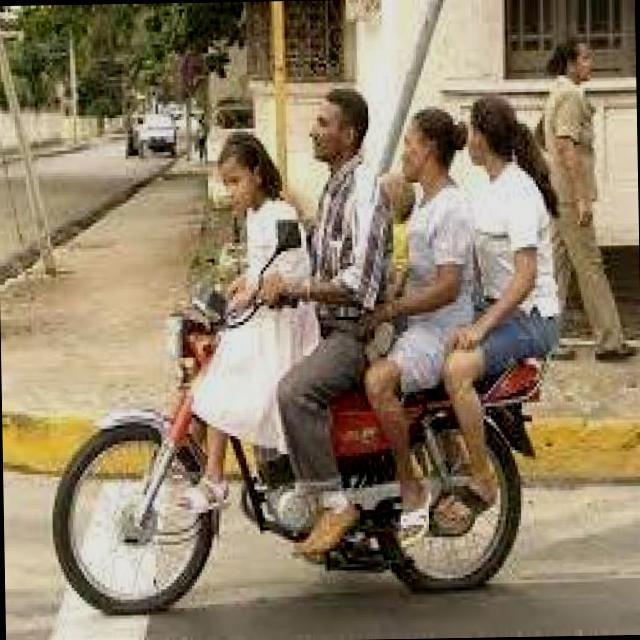motorcycle: (44, 276, 552, 621)
person: (414, 88, 564, 540), (263, 85, 397, 462), (178, 124, 310, 477), (362, 106, 482, 482)
rider_region: (40, 83, 565, 612)
